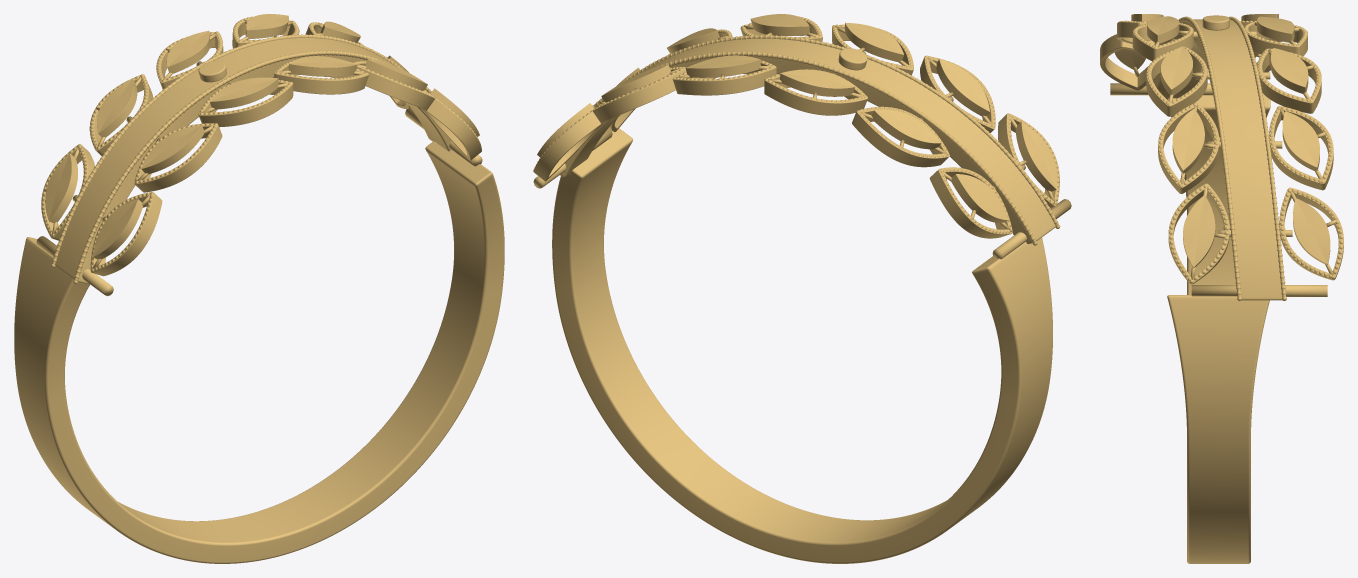
3 views of the same model, side by side, from view 1: azimuth 30°, elevation 25°; view 2: azimuth 150°, elevation 25°; view 3: azimuth 270°, elevation 25° (orthographic). The views are drawn at different scales.
Parts seen in each view (by area): view 1: Complete tapered shank | reverse geometry estimated, Sweeping diagonal gold ribbon, Milgrain | individually editable bead geometry, Border-1 leaf0 open gallery wall, Border-1 leaf1 open gallery wall, Border-1 leaf2 open gallery wall, Border-1 leaf0 raised platelet, Border-1 leaf1 raised platelet, Border1 leaf0 raised platelet, Border-1 leaf5 open gallery wall, Border-1 leaf3 open gallery wall, Border-1 leaf2 raised platelet (+11 smaller); view 2: Complete tapered shank | reverse geometry estimated, Sweeping diagonal gold ribbon, Milgrain | individually editable bead geometry, Border1 leaf1 open gallery wall, Border1 leaf5 open gallery wall, Border1 leaf2 open gallery wall, Border1 leaf0 open gallery wall, Border1 leaf3 open gallery wall, Border-1 leaf0 raised platelet, Border1 leaf1 raised platelet, Border-1 leaf1 raised platelet, Border1 leaf0 raised platelet (+11 smaller); view 3: Complete tapered shank | reverse geometry estimated, Sweeping diagonal gold ribbon, Milgrain | individually editable bead geometry, Border1 leaf5 raised platelet, Border-1 leaf5 raised platelet, Border1 leaf4 raised platelet, Border-1 leaf4 raised platelet, Border-1 leaf4 open gallery wall, Border1 leaf4 open gallery wall, Border-1 leaf3 open gallery wall, Border1 leaf3 open gallery wall, Border1 leaf3 raised platelet (+15 smaller).
Boxes of the visible parts, x1,y1,x2,y2 form: Complete tapered shank | reverse geometry estimated: (14, 141, 504, 563); Sweeping diagonal gold ribbon: (55, 37, 451, 284); Milgrain | individually editable bead geometry: (41, 16, 481, 284); Border-1 leaf0 open gallery wall: (90, 192, 162, 276); Border-1 leaf1 open gallery wall: (134, 123, 222, 192); Border-1 leaf2 open gallery wall: (198, 80, 293, 127); Border-1 leaf0 raised platelet: (92, 199, 142, 259); Border-1 leaf1 raised platelet: (141, 125, 204, 173); Border1 leaf0 raised platelet: (45, 153, 77, 223); Border-1 leaf5 open gallery wall: (422, 98, 481, 160); Border-1 leaf3 open gallery wall: (274, 60, 368, 94); Border-1 leaf2 raised platelet: (210, 77, 278, 109); Complete tapered shank | reverse geometry estimated: (552, 128, 1052, 563); Sweeping diagonal gold ribbon: (560, 38, 1055, 244); Milgrain | individually editable bead geometry: (533, 16, 1060, 245); Border1 leaf1 open gallery wall: (852, 106, 949, 167); Border1 leaf5 open gallery wall: (533, 111, 604, 181); Border1 leaf2 open gallery wall: (764, 72, 867, 115); Border1 leaf0 open gallery wall: (929, 167, 1012, 238); Border1 leaf3 open gallery wall: (672, 60, 776, 95); Border-1 leaf0 raised platelet: (1015, 122, 1057, 191); Border1 leaf1 raised platelet: (871, 109, 941, 149); Border-1 leaf1 raised platelet: (936, 59, 989, 116); Border1 leaf0 raised platelet: (951, 174, 1008, 223); Complete tapered shank | reverse geometry estimated: (1167, 93, 1270, 563); Sweeping diagonal gold ribbon: (1154, 19, 1282, 300); Milgrain | individually editable bead geometry: (1114, 16, 1343, 301); Border1 leaf5 raised platelet: (1293, 198, 1330, 264); Border-1 leaf5 raised platelet: (1183, 195, 1215, 268); Border1 leaf4 raised platelet: (1282, 111, 1319, 170); Border-1 leaf4 raised platelet: (1172, 108, 1204, 173); Border-1 leaf4 open gallery wall: (1158, 102, 1219, 193); Border1 leaf4 open gallery wall: (1269, 106, 1333, 190); Border-1 leaf3 open gallery wall: (1146, 46, 1207, 116); Border1 leaf3 open gallery wall: (1257, 48, 1321, 113); Border1 leaf3 raised platelet: (1270, 48, 1308, 93).
Bounding box in the file's own units: 0.0197 × 0.0202 × 0.00897.
